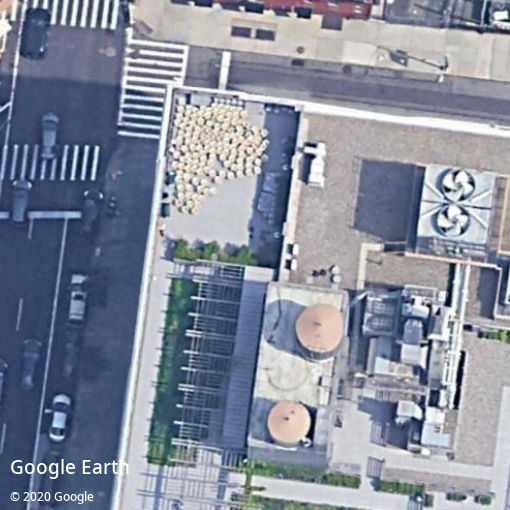Vent: (442, 169, 476, 203), (436, 204, 471, 237)
